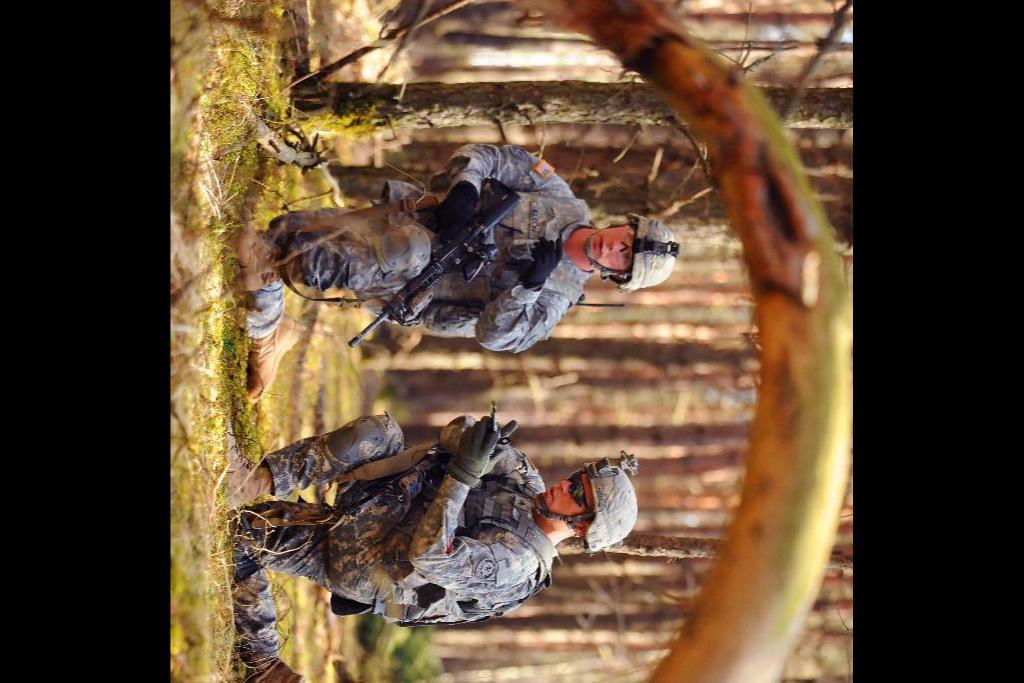gun: (343, 156, 529, 349)
